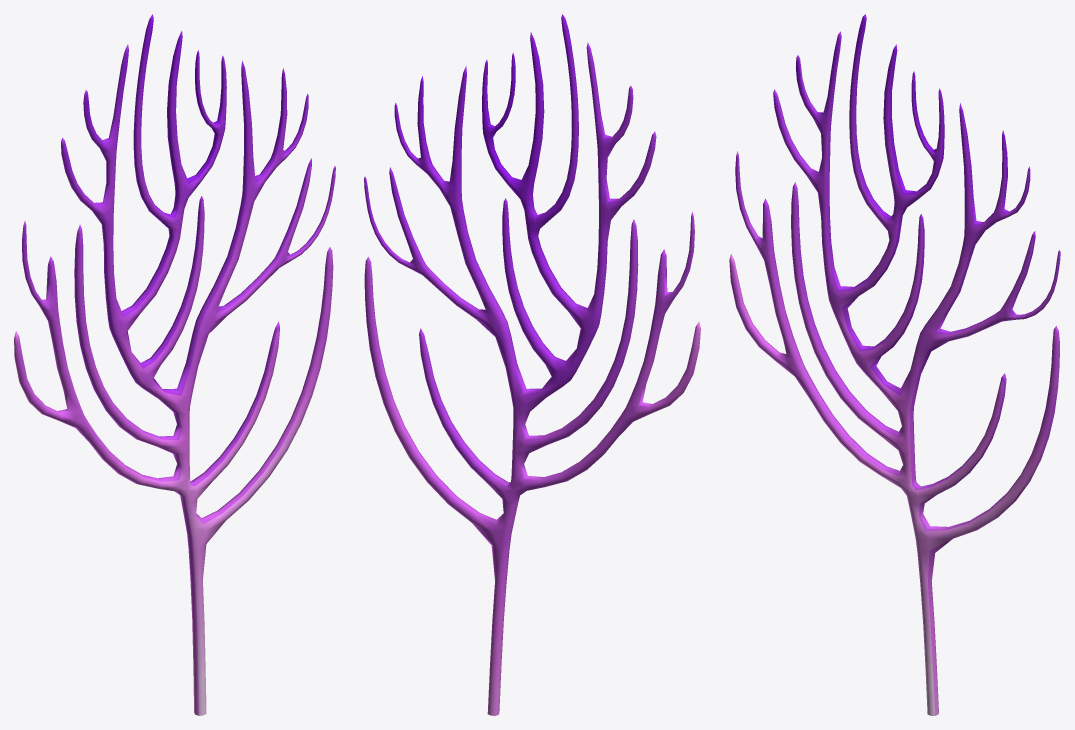
Rendered from plant_67.fbx.
The picture shows the model from 3 angles, left to right: view 1: azimuth 30°, elevation 25°; view 2: azimuth 150°, elevation 25°; view 3: azimuth 330°, elevation 25°; orthographic projection. The views are drawn at different scales.
Parts seen in each view (by area): view 1: haizao_haicao_group36_coral_e06; view 2: haizao_haicao_group36_coral_e06; view 3: haizao_haicao_group36_coral_e06.
Boxes of the visible parts, x1,y1,x2,y2 form: haizao_haicao_group36_coral_e06: (14,14,335,715); haizao_haicao_group36_coral_e06: (364,14,700,715); haizao_haicao_group36_coral_e06: (729,14,1060,715).
Size of the model in its own units: 4.46 by 9.24 by 0.4161.
